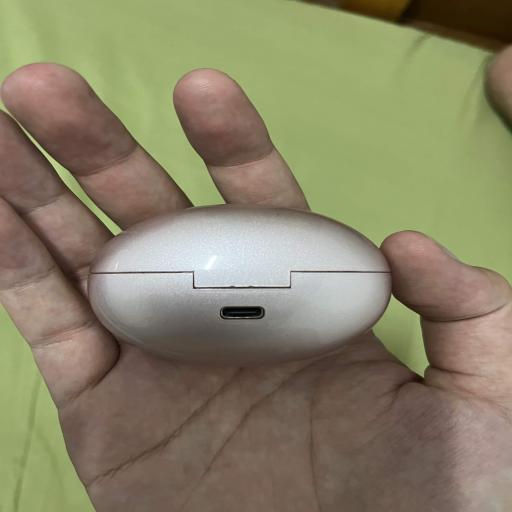GOOJODOQ: (88, 205, 390, 365)
